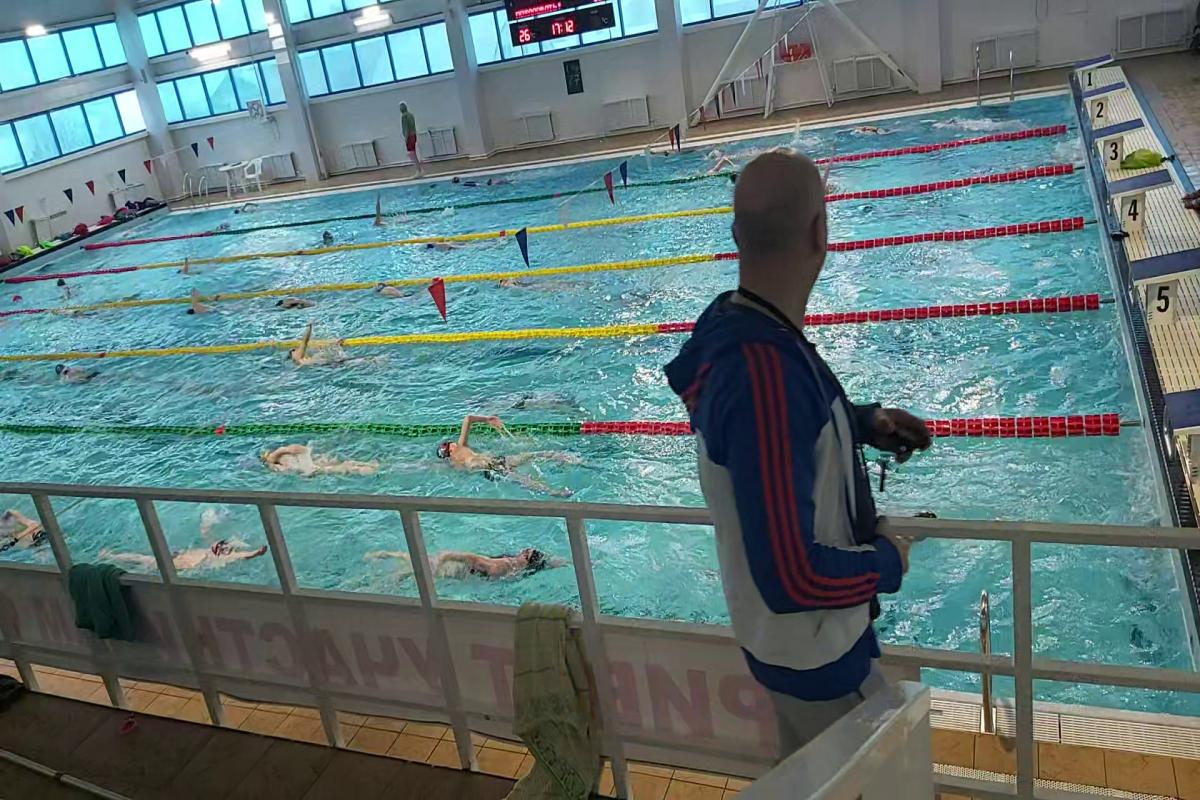swimmer: (372, 532, 563, 596), (426, 424, 556, 490), (114, 524, 272, 577), (253, 439, 387, 486), (280, 329, 368, 378), (473, 382, 589, 414), (49, 358, 118, 392), (0, 510, 45, 556), (182, 290, 234, 322), (372, 282, 432, 306), (272, 294, 331, 315), (418, 237, 475, 256)
